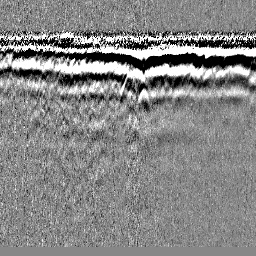cavity: (119, 69, 140, 100)
